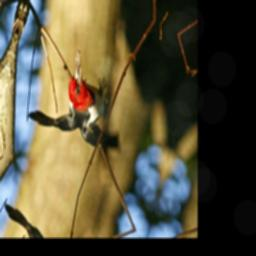Woodpecker: (21, 28, 137, 177)
